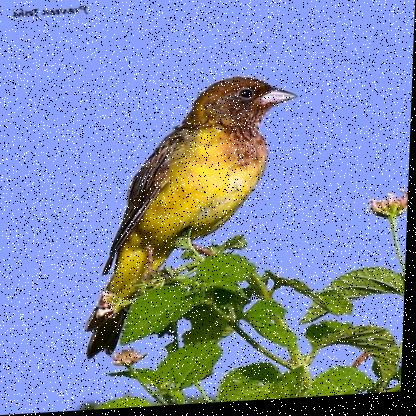Burung: (82, 76, 297, 367)
